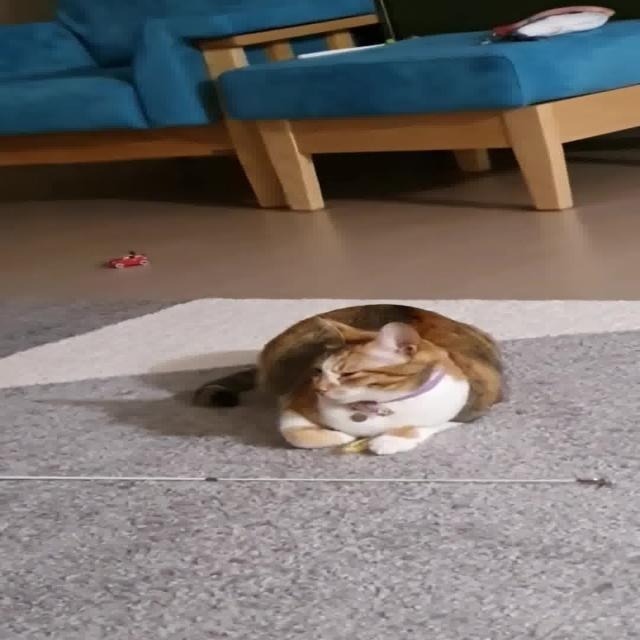cat: (164, 287, 526, 464)
